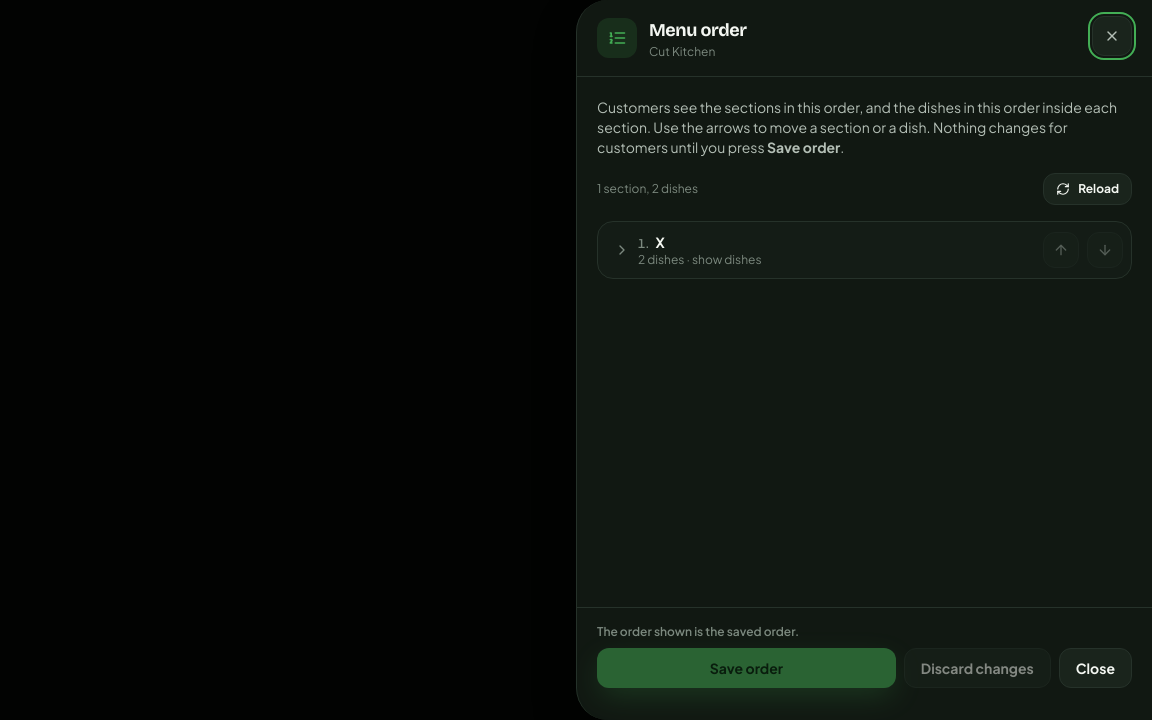
Scenario: reordering dishes › not live and sold out dishes are marked
The width and height of the screenshot is (1152, 720).
Click the button "1.X 2 dishes · show dishes".
click(666, 260)  # box [606,230,1035,270]
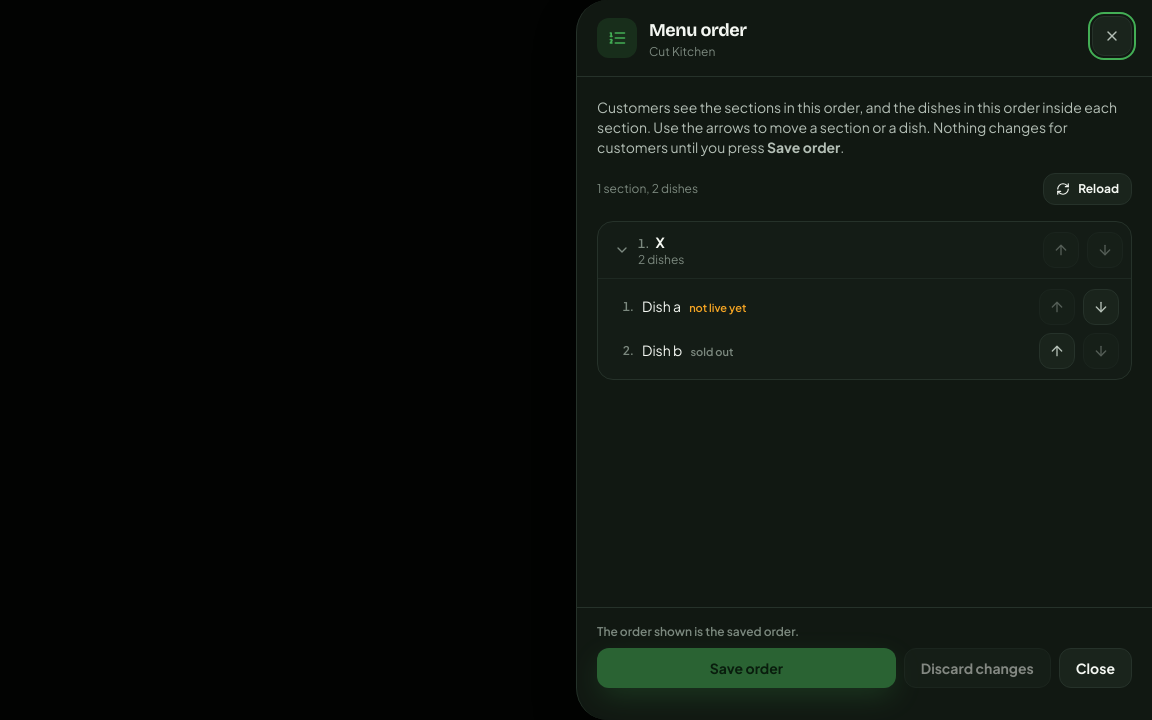
Now the dialog shows "not live yet", box [689,301,746,314]
Now the dialog shows "sold out", box [690,345,733,358]
